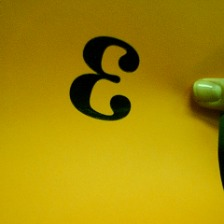orange3: (63, 32, 146, 125)
